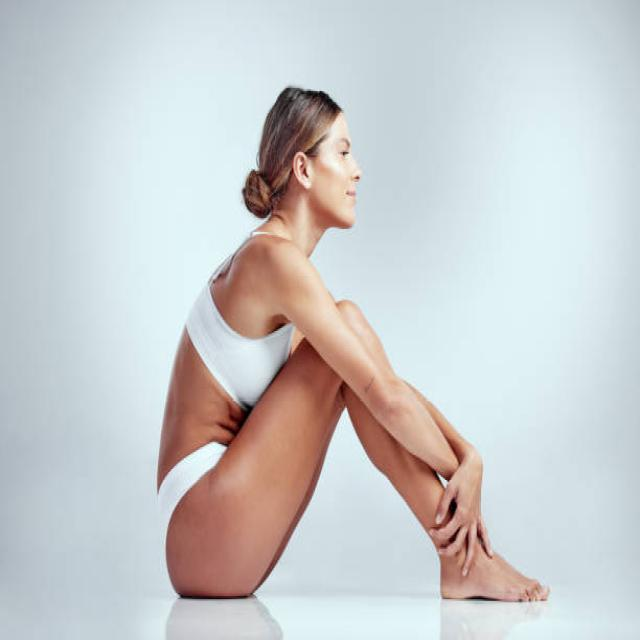Edited images: (149, 72, 565, 613)
